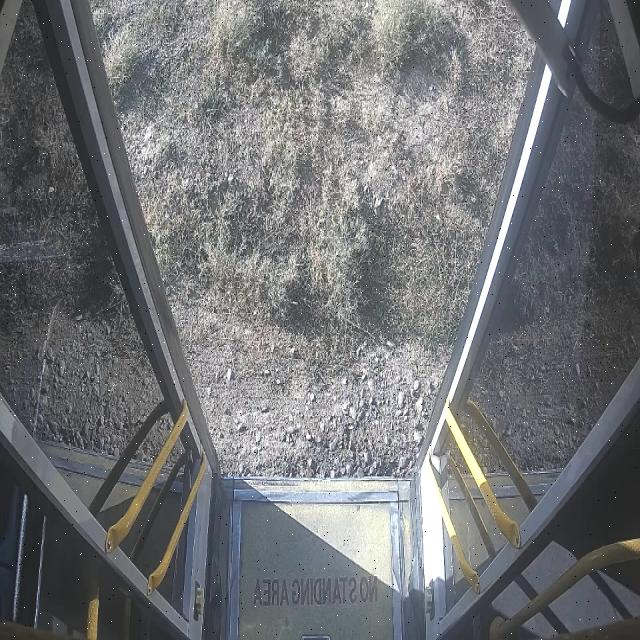open: (60, 1, 562, 487)
